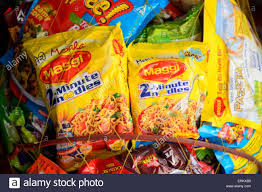maggi: (38, 52, 202, 131)
